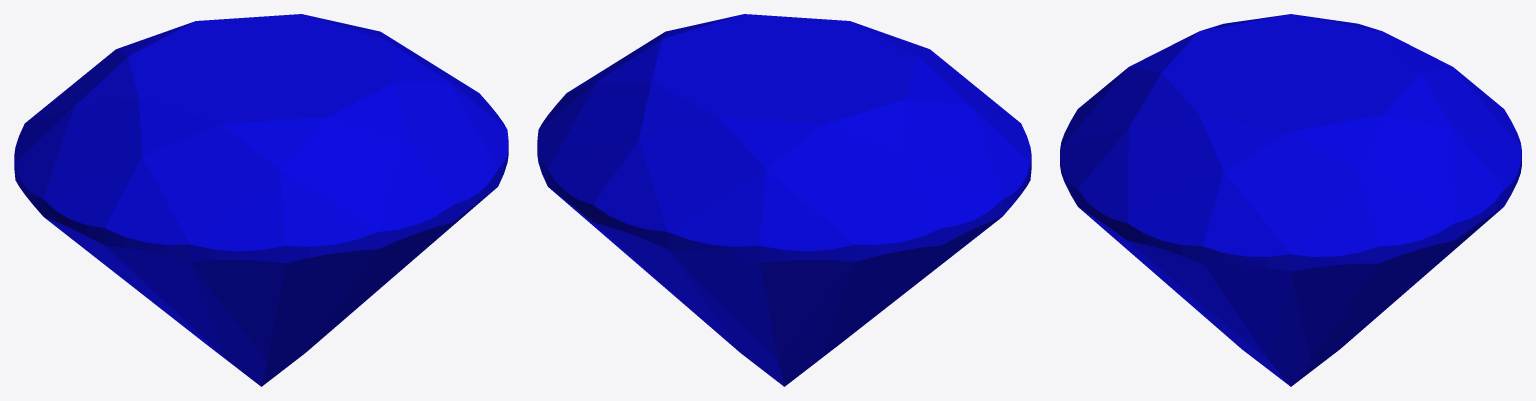
Rendered from Head_Hidden Halo_Round_0.50ct_Diamond.glb.
3 views of the same model, side by side, from view 1: azimuth 30°, elevation 25°; view 2: azimuth 150°, elevation 25°; view 3: azimuth 270°, elevation 25° (orthographic).
Size of the model in its own units: 0.00483 by 0.00337 by 0.00449.
